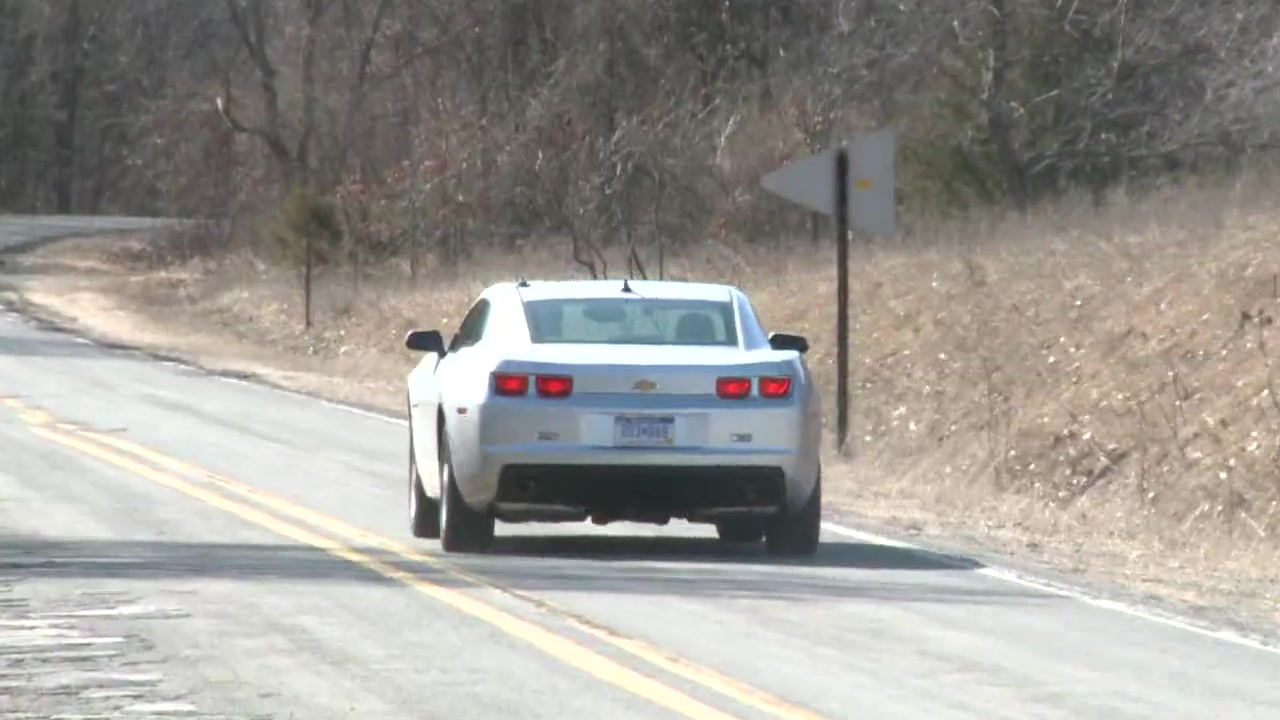car: (402, 275, 822, 557)
